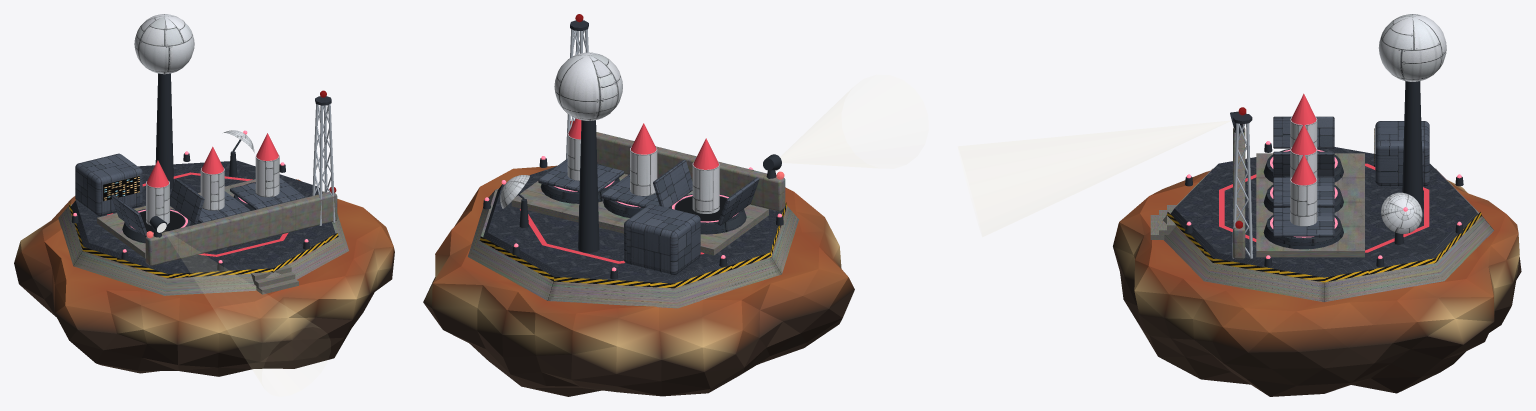
Rendered from silo-L25.glb.
3 renders of one model, left to right at view 1: azimuth 30°, elevation 25°; view 2: azimuth 150°, elevation 25°; view 3: azimuth 270°, elevation 25°, orthographic. The views are drawn at different scales.
Visible parts, largest first — view 1: object 1, object 4, object 44, object 2, anim:cell (×3), object 52, object 47, anim:doorR (×3), object 51, object 3, anim:doorL (×2), object 25 (+5 smaller); view 2: object 1, object 4, object 2, object 47, anim:cell (×3), object 44, object 52, object 25, object 51, anim:doorR (×3), object 3, anim:doorL (×2) (+6 smaller); view 3: object 1, object 4, object 2, object 25, object 52, anim:cell (×3), anim:doorR (×3), object 47, anim:doorL (×3), object 51, object 3, anim:rot (+3 smaller).
Boxes of the visible parts, x1=… form: object 1: x1=14, y1=179, x2=394, y2=376; object 4: x1=71, y1=160, x2=335, y2=273; object 44: x1=145, y1=192, x2=337, y2=265; object 2: x1=58, y1=191, x2=348, y2=295; anim:cell (×3): x1=146, y1=133, x2=279, y2=225; object 52: x1=134, y1=14, x2=194, y2=74; object 47: x1=75, y1=153, x2=142, y2=216; anim:doorR (×3): x1=170, y1=178, x2=305, y2=224; object 51: x1=155, y1=73, x2=173, y2=189; object 3: x1=69, y1=203, x2=338, y2=278; anim:doorL (×2): x1=111, y1=183, x2=280, y2=236; object 25: x1=97, y1=179, x2=255, y2=258; object 1: x1=423, y1=165, x2=854, y2=396; object 4: x1=483, y1=167, x2=783, y2=283; object 2: x1=468, y1=188, x2=799, y2=308; object 47: x1=624, y1=204, x2=700, y2=275; anim:cell (×3): x1=567, y1=118, x2=719, y2=213; object 44: x1=596, y1=132, x2=785, y2=211; object 52: x1=554, y1=52, x2=622, y2=120; object 25: x1=511, y1=174, x2=768, y2=255; object 51: x1=578, y1=120, x2=599, y2=253; anim:doorR (×3): x1=538, y1=158, x2=692, y2=207; object 3: x1=479, y1=202, x2=786, y2=288; anim:doorL (×2): x1=566, y1=164, x2=759, y2=225; object 1: x1=1113, y1=171, x2=1521, y2=396; object 4: x1=1170, y1=147, x2=1477, y2=277; object 2: x1=1163, y1=168, x2=1493, y2=302; object 25: x1=1256, y1=153, x2=1364, y2=257; object 52: x1=1378, y1=14, x2=1446, y2=81; anim:cell (×3): x1=1290, y1=93, x2=1317, y2=226; anim:doorR (×3): x1=1273, y1=151, x2=1334, y2=237; object 47: x1=1375, y1=121, x2=1429, y2=186; anim:doorL (×3): x1=1273, y1=116, x2=1334, y2=221; object 51: x1=1402, y1=81, x2=1423, y2=209; object 3: x1=1166, y1=212, x2=1481, y2=282; anim:rot: x1=1381, y1=192, x2=1422, y2=233.
Size of the model in its own units: 6.16 by 5.28 by 8.29.
Materials: 17 (7 with a texture image).
